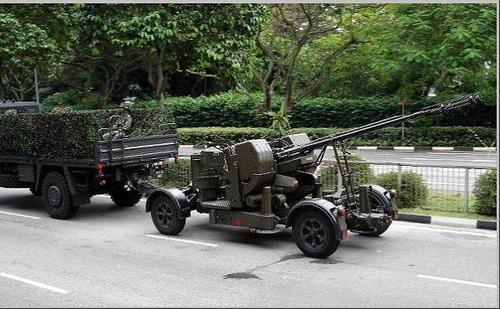MIL_SPG: (147, 83, 491, 257)
